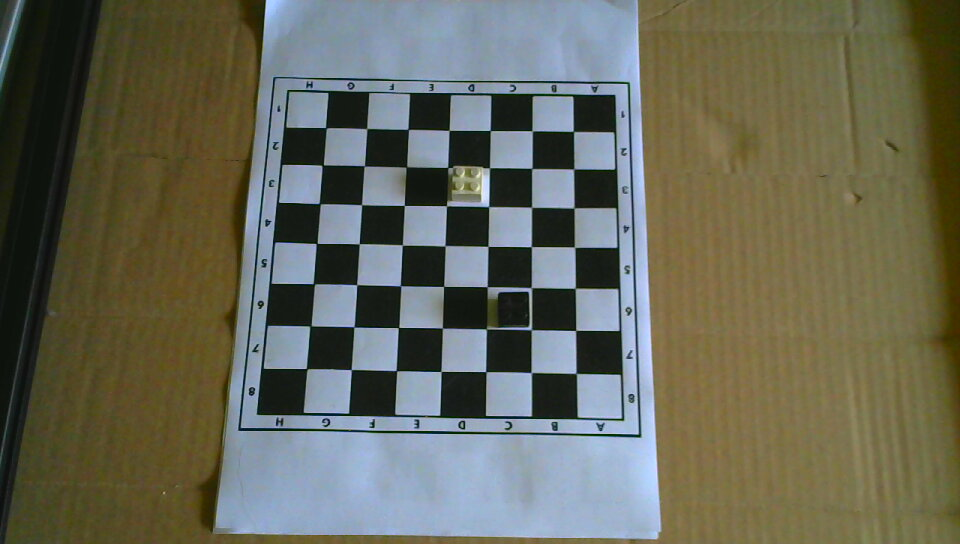bp: (496, 289, 533, 330)
wp: (450, 162, 484, 204)
